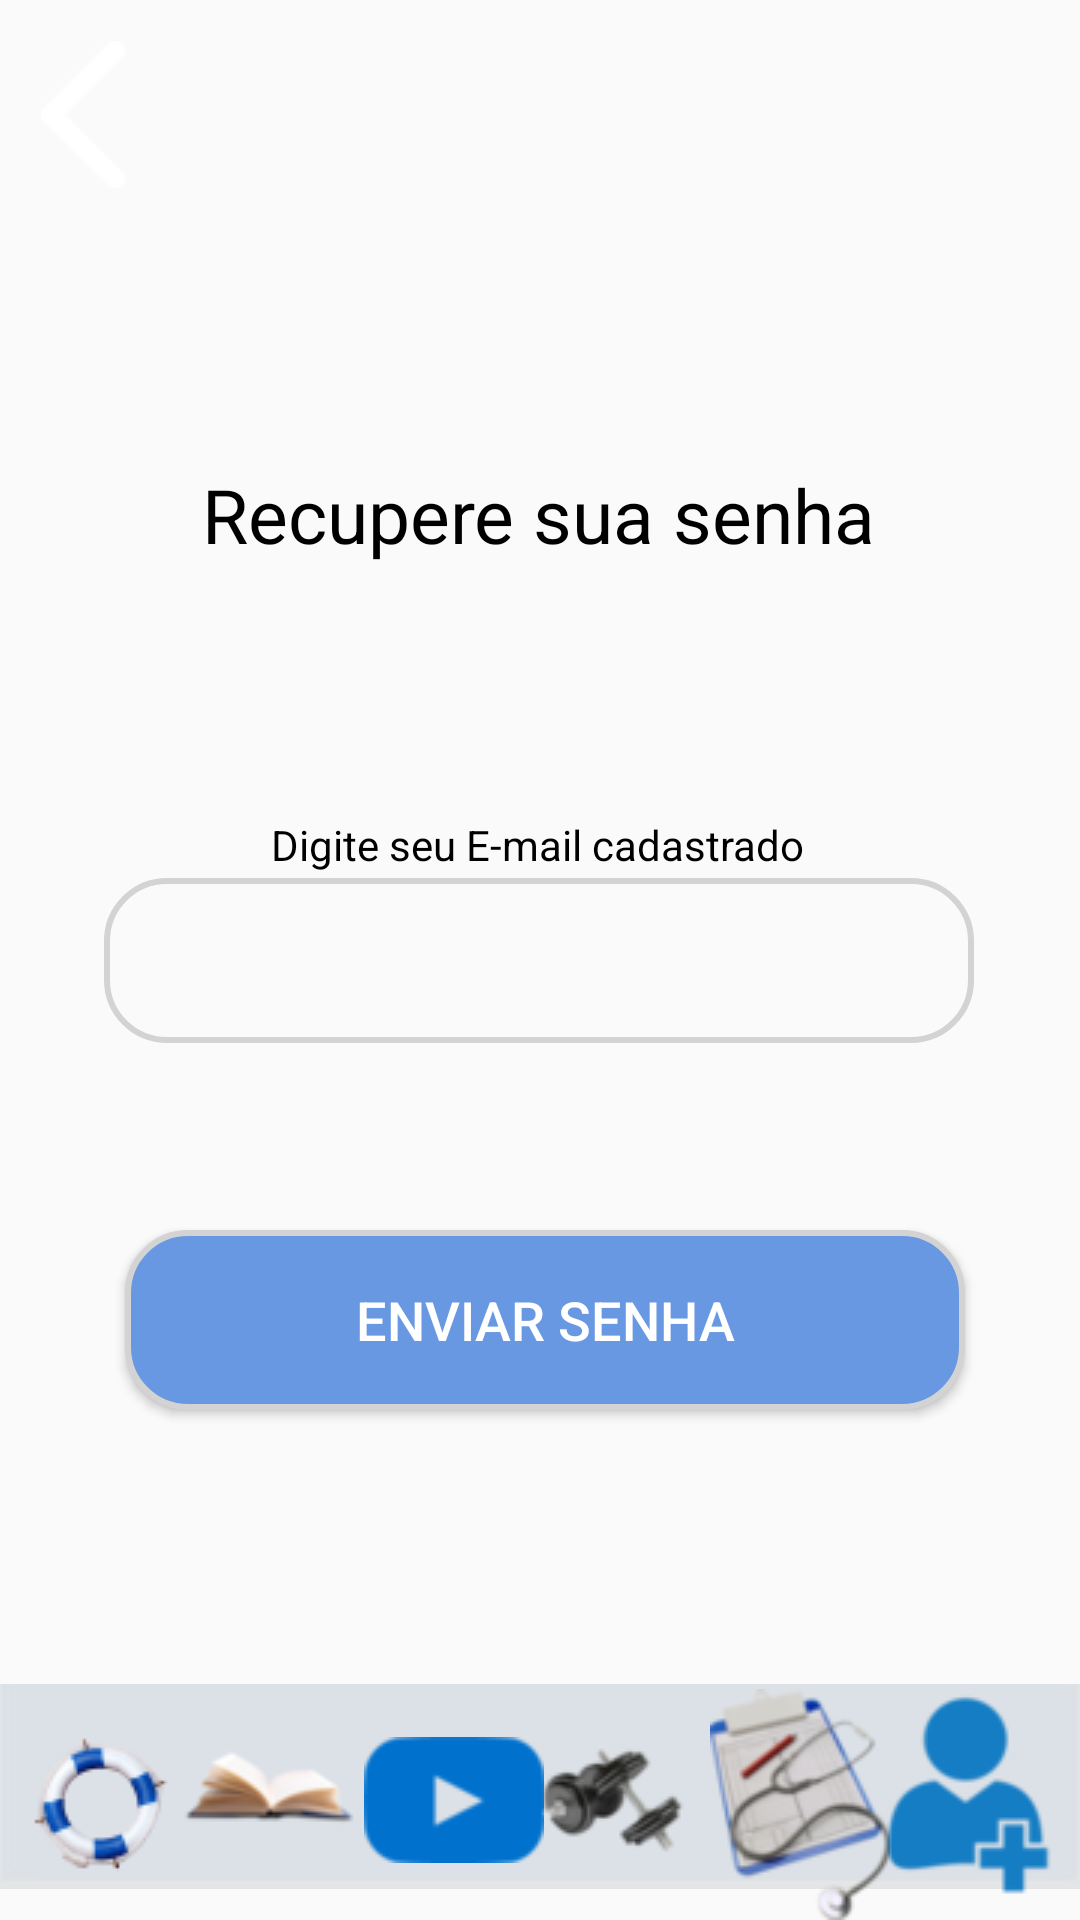

Icon click points for this 1080 x 1920 phone screenshot, format point (x, y):
ajudabotao: point (100, 1803)
iconecadastromenu: point (972, 1796)
iconelivromenu: point (270, 1788)
iconepalylistmenu: point (454, 1800)
iconexerciciosmenu: point (608, 1806)
